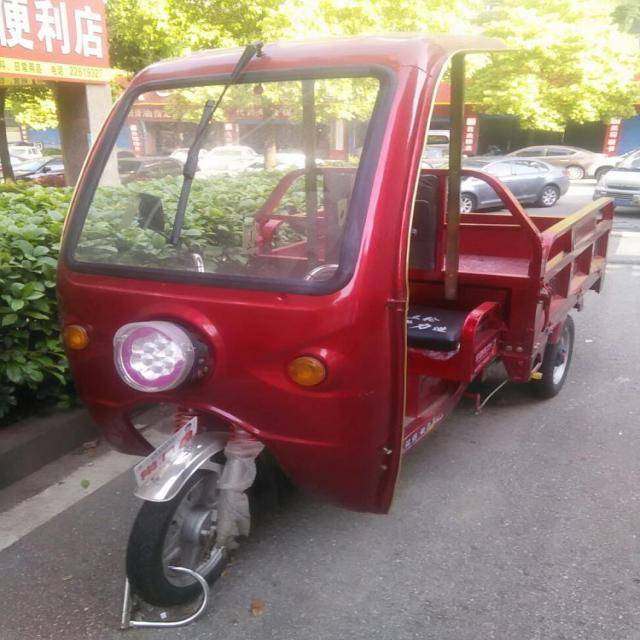car: (431, 156, 573, 215), (502, 144, 606, 180), (590, 147, 639, 211), (196, 144, 255, 166)
tricycle: (51, 32, 614, 607)
